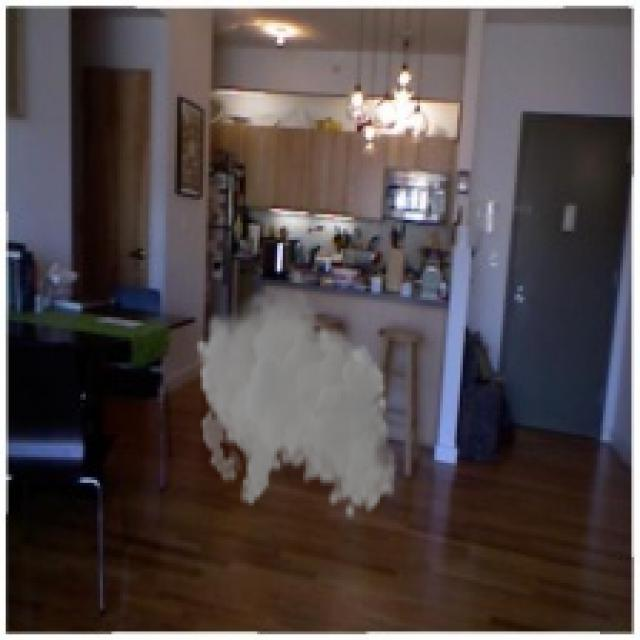smoke: (194, 280, 397, 520)
